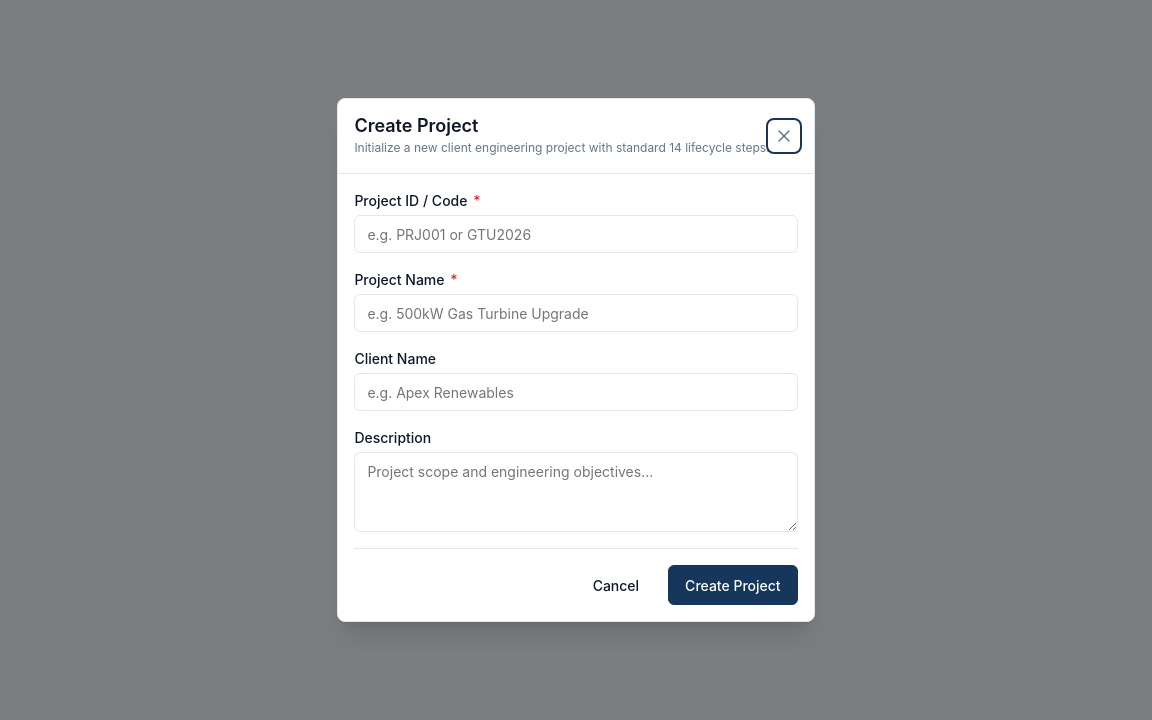
Test: CreateProjectModal › validates alphanumeric requirement on project code
In the field with test id "create-project-code-input": {"x": 576, "y": 234} x1=354 y1=215 x2=798 y2=253, type "PRJ-001!"
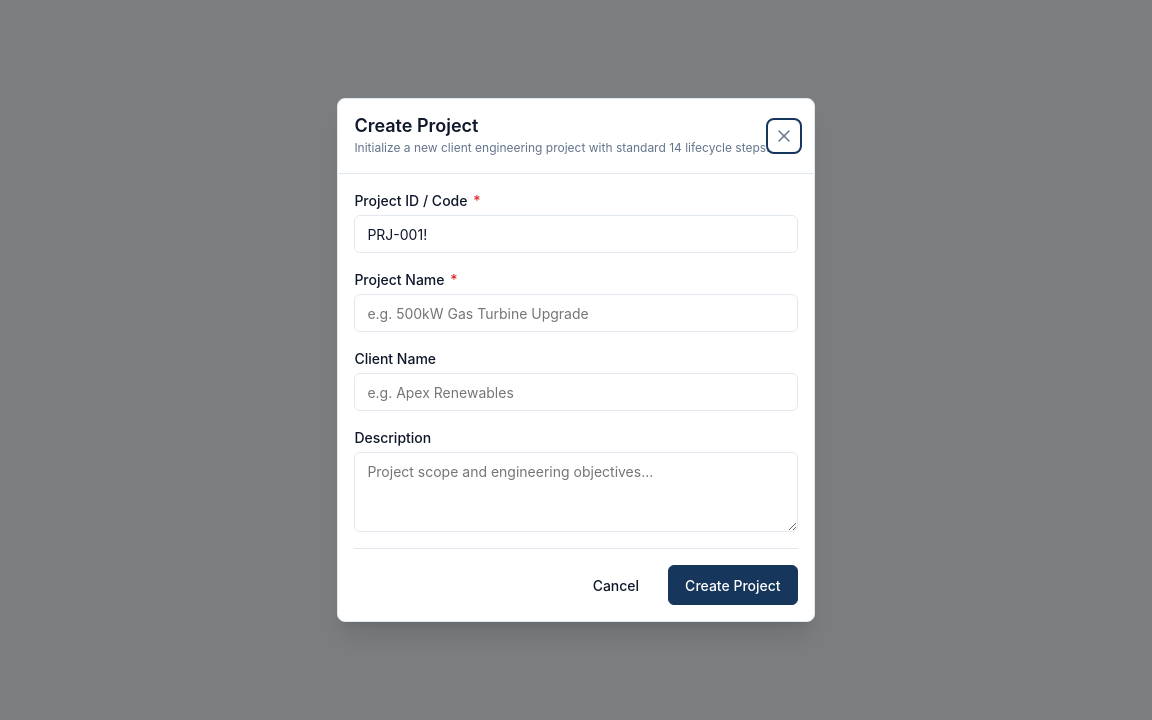
In the field with test id "create-project-name-input": {"x": 576, "y": 313} x1=354 y1=294 x2=798 y2=332, type "Test Project"
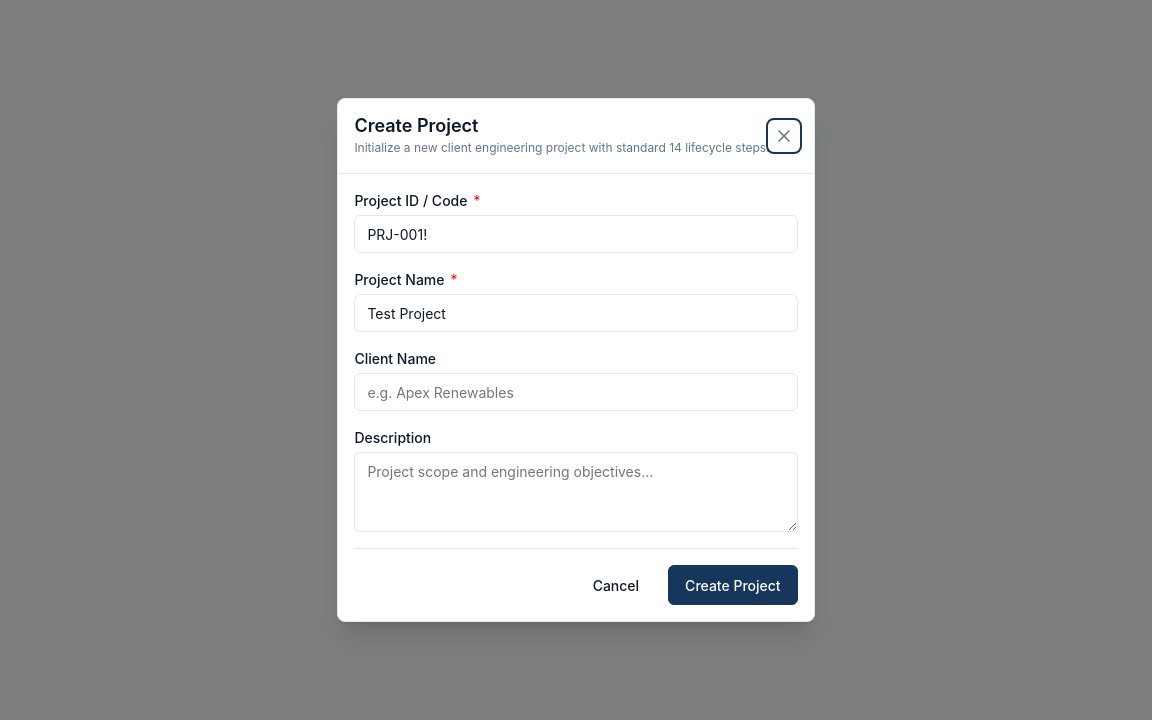
Submit the form with test id "create-project-form", box x1=354 y1=190 x2=798 y2=605
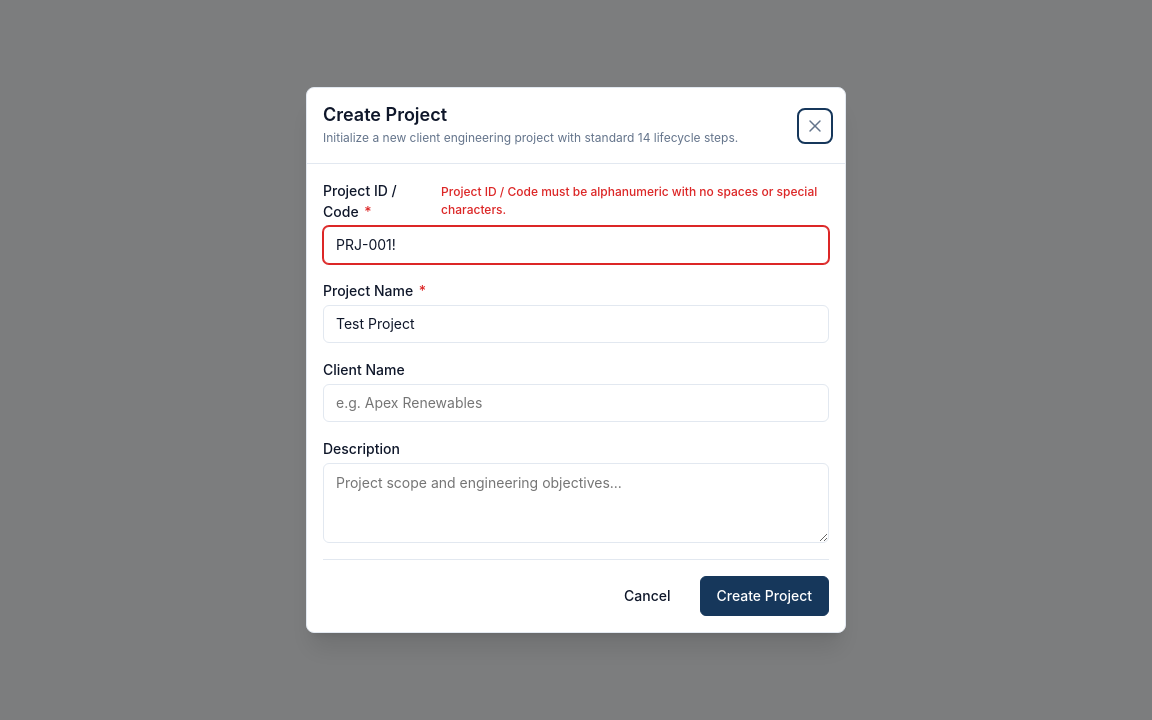
Check: the message with test id "error-code" reads "Project ID / Code must be alphanumeric with no spaces or special characters.", box x1=441 y1=184 x2=817 y2=217
